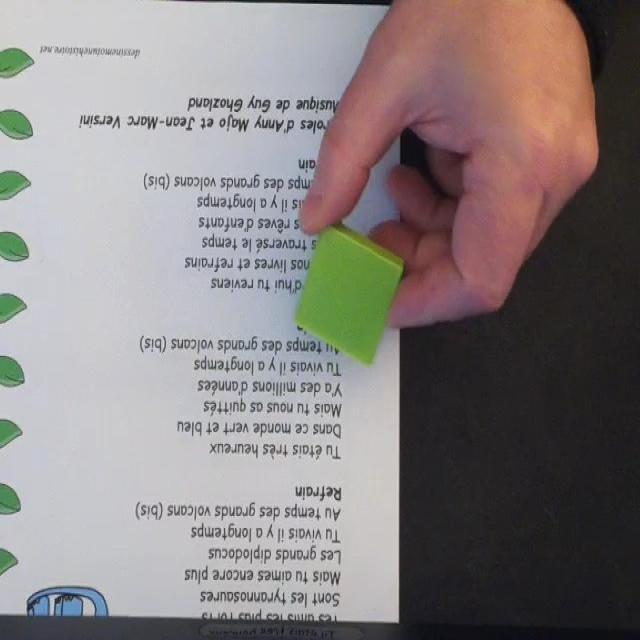square: (292, 218, 404, 366)
